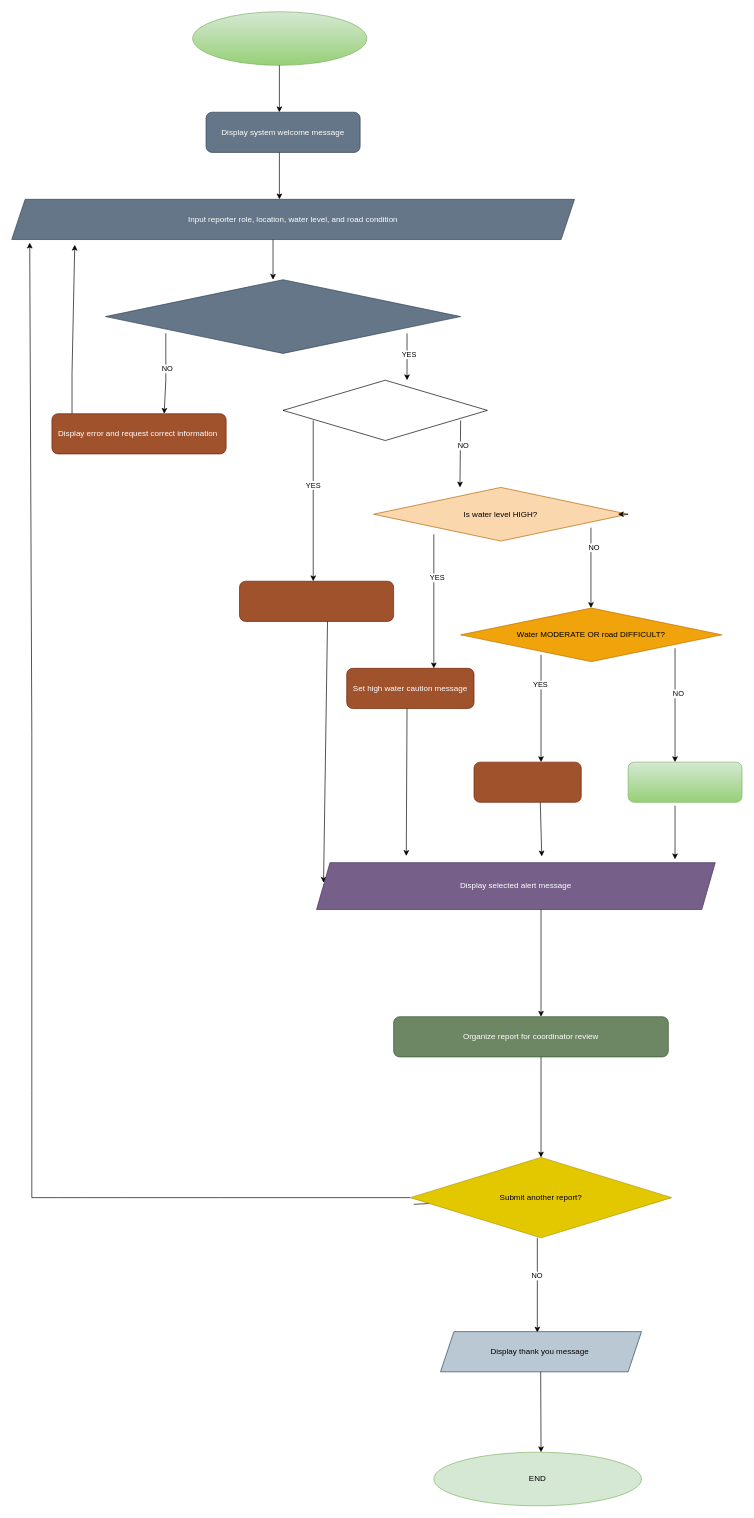
Some shapes in this 754 by 1518 pixel diagram are drawn without their labels. Each missing label, with the centre of its shape:
"Are all required fields complete and vaild?" belongs at (283,316).
"Is the road condition BLOCKED?" belongs at (384,410).
"Set blocked road caution message" belongs at (316,601).
"Set caution message" belongs at (527,781).
"Set lower concern message" belongs at (684,781).
"START" belongs at (279,38).
